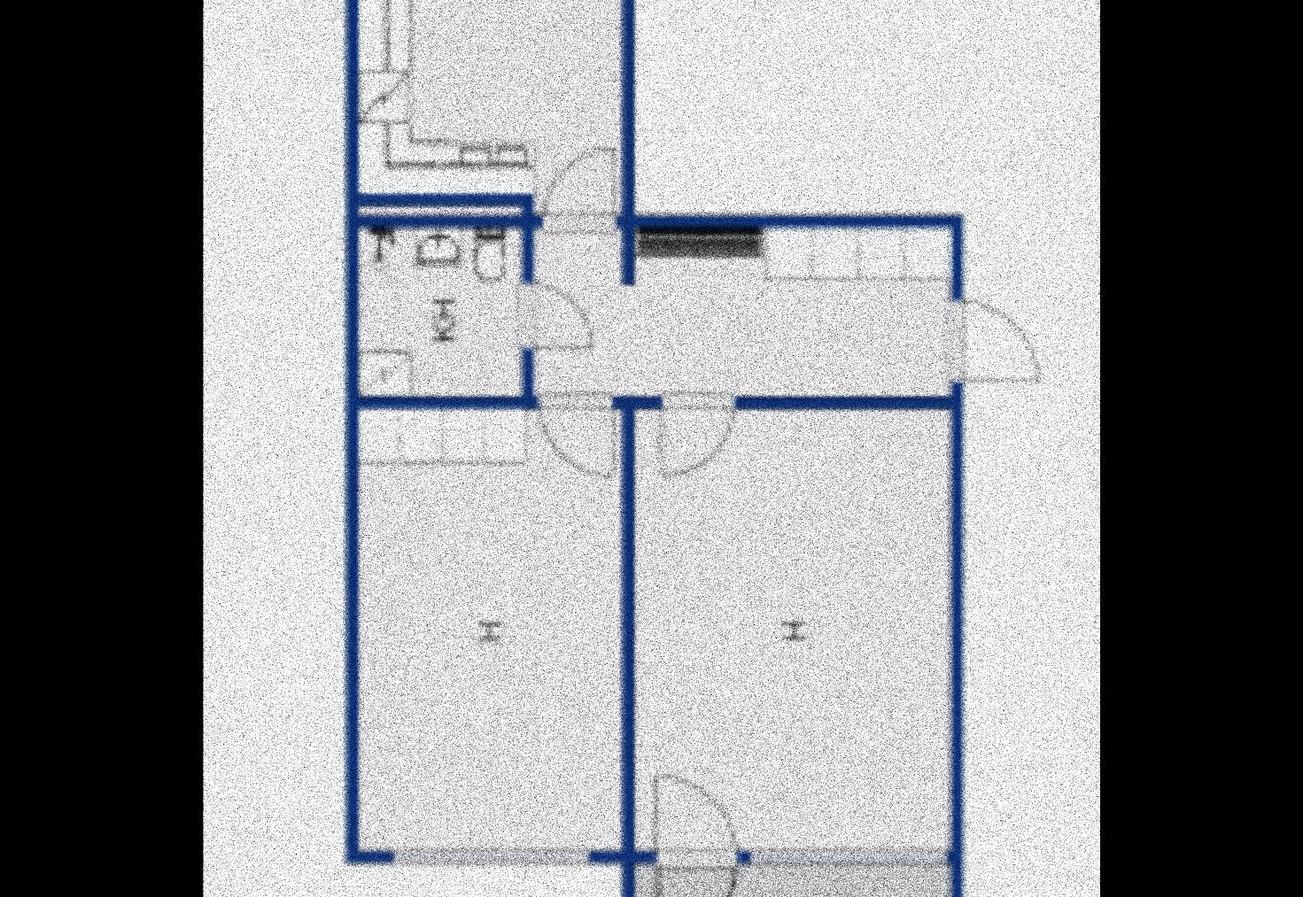door: (644, 768, 747, 897), (942, 287, 1044, 381), (536, 393, 617, 494), (655, 390, 739, 484), (540, 141, 622, 236), (511, 274, 608, 351)
window: (754, 845, 945, 862), (393, 848, 591, 864)
zone: (630, 411, 945, 847), (355, 411, 618, 849), (532, 227, 953, 393), (349, 0, 620, 196), (353, 229, 517, 396), (633, 870, 950, 897)
